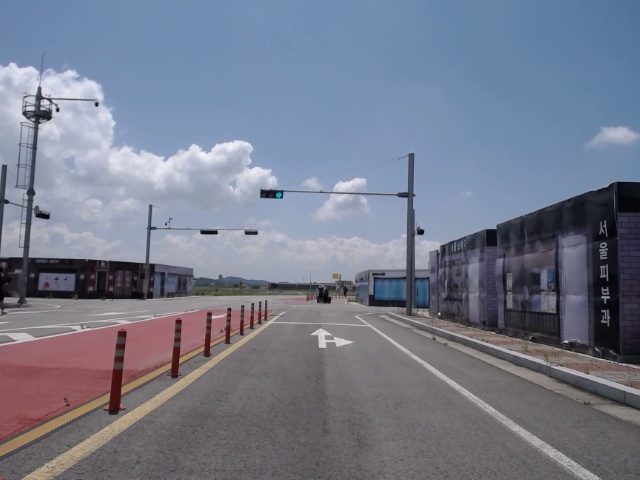green_3: (261, 190, 282, 197)
